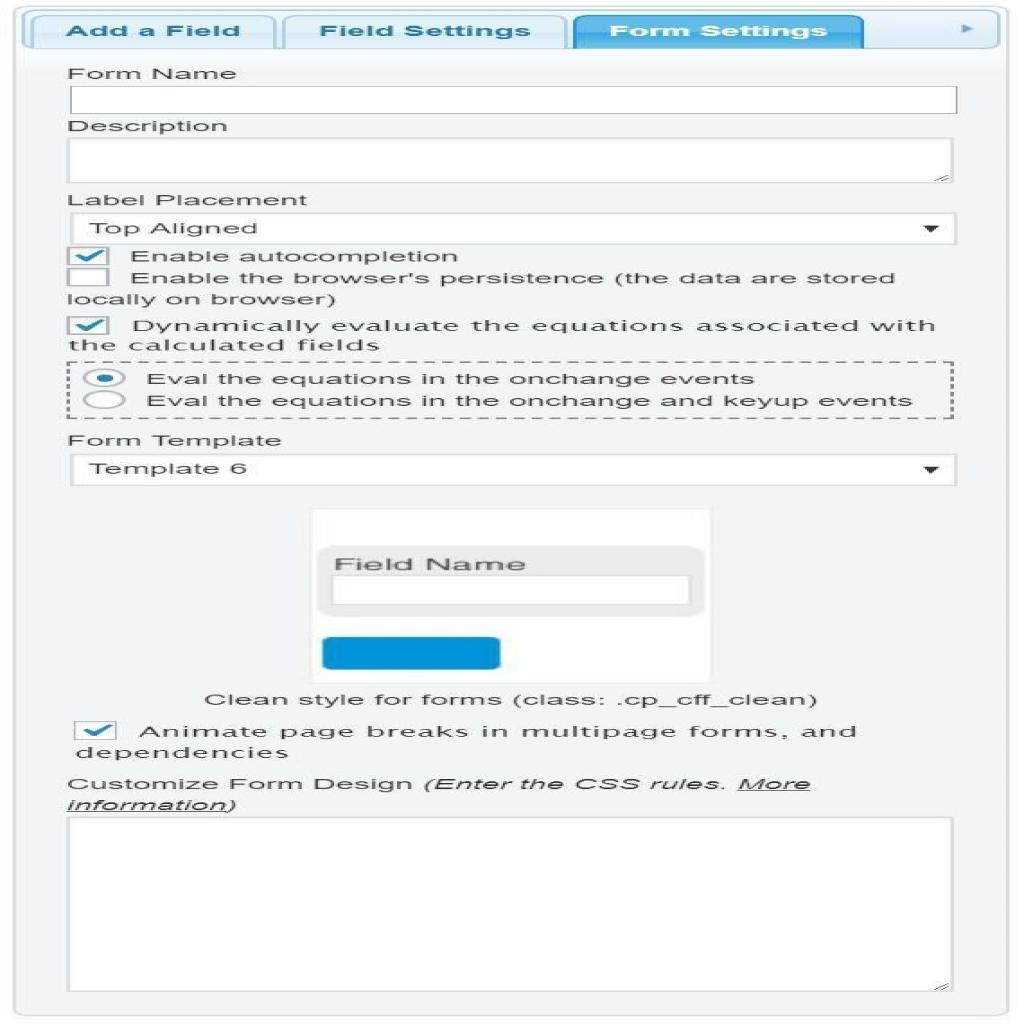button: (575, 14, 864, 48), (284, 15, 568, 48), (34, 17, 273, 49)
checkbox: (66, 316, 108, 337), (76, 722, 118, 741), (64, 268, 108, 286), (64, 247, 108, 264)
dropdown: (70, 456, 959, 486), (70, 214, 961, 243)
input: (68, 139, 950, 183), (70, 86, 956, 115), (332, 574, 688, 602)
label: (126, 316, 945, 356), (130, 273, 880, 309), (137, 391, 925, 414), (136, 369, 770, 387), (128, 248, 465, 269), (57, 432, 311, 454), (63, 188, 330, 208), (328, 552, 542, 576), (61, 63, 246, 81), (54, 118, 239, 135)
radio: (77, 390, 131, 412), (77, 367, 126, 389)
